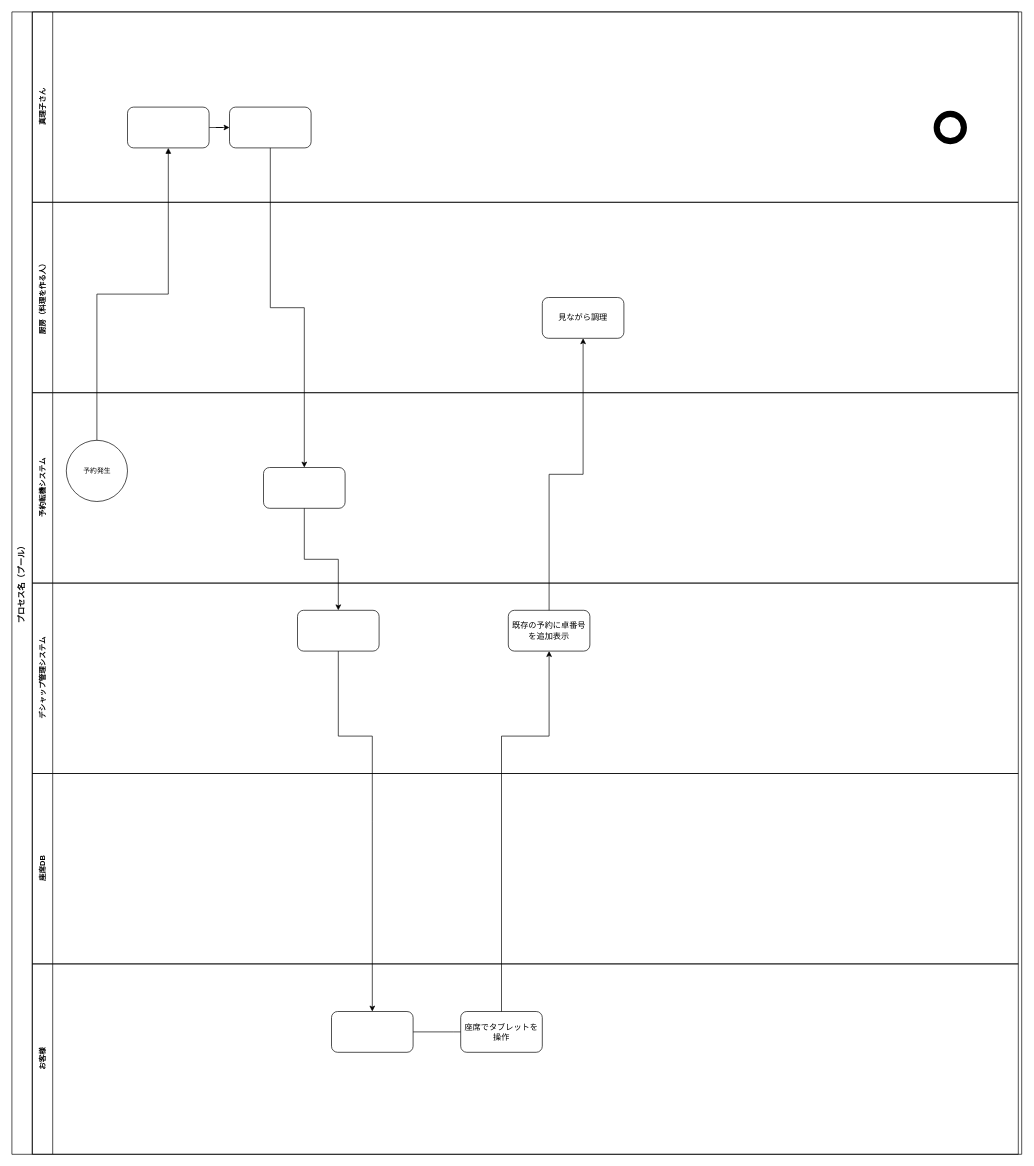
Some shapes in this 1034 by 1166 pixel diagram are drawn without their labels. The shapes that lost their labels are listed below. From the top down, each one's centre as x and y in pixels, then its label:
the point at 168,127: 予約を確認する
the point at 270,127: 予約を転記する
the point at 950,127: 終了
the point at 304,487: 予約がDBに保存される
the point at 338,630: 表示 ・メニュー ・来店時間 ・オプション
the point at 372,1031: ご来店
